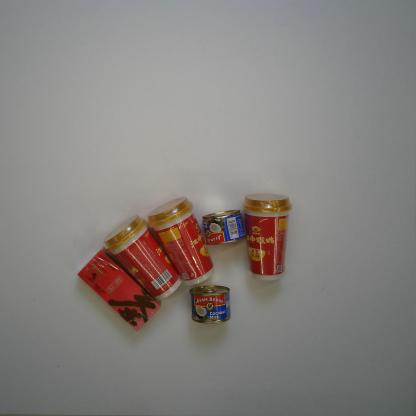Canned Food: (189, 284, 232, 324), (202, 209, 246, 246)
Instant Drink: (102, 213, 182, 302), (76, 250, 160, 333), (147, 195, 216, 286), (242, 193, 292, 281)
